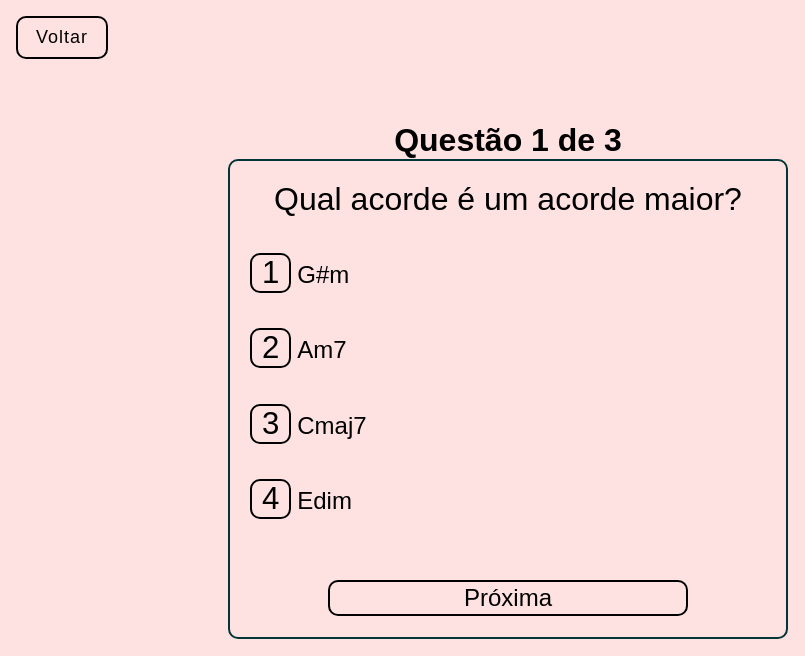
Test: Quiz › plays a quiz
Click the button "2": click(271, 348) [250,328,291,368]
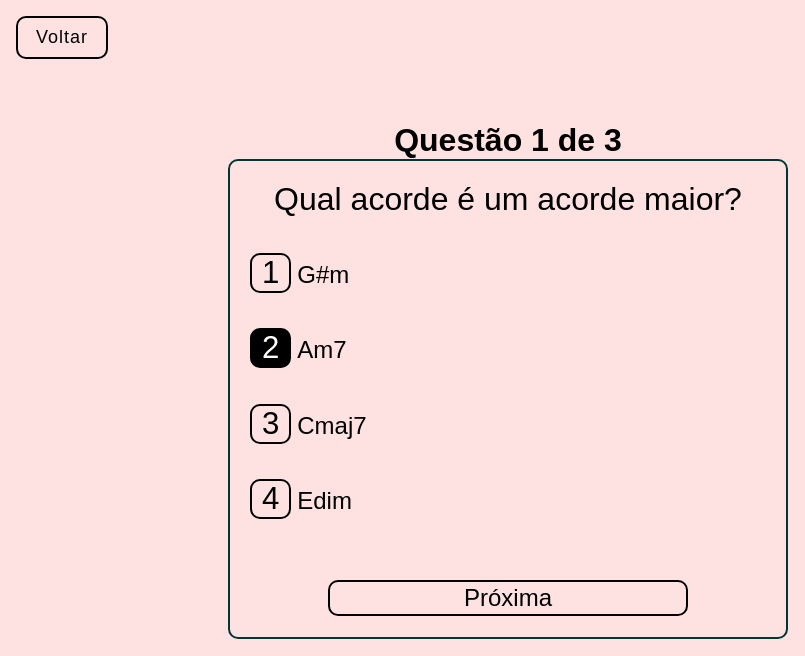
Click the button "Próxima": click(508, 598) [328,580,688,616]
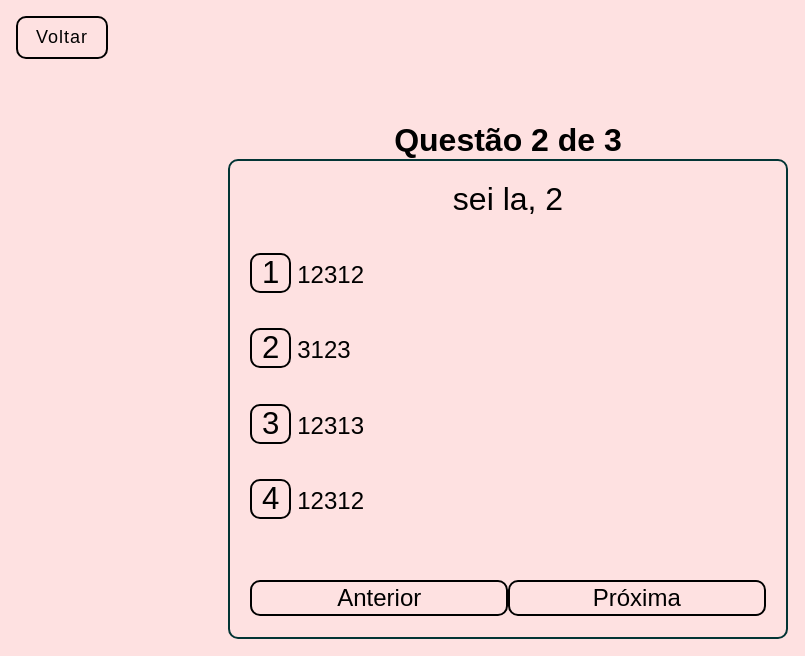
Click the button "3": click(271, 424) [250,404,291,444]
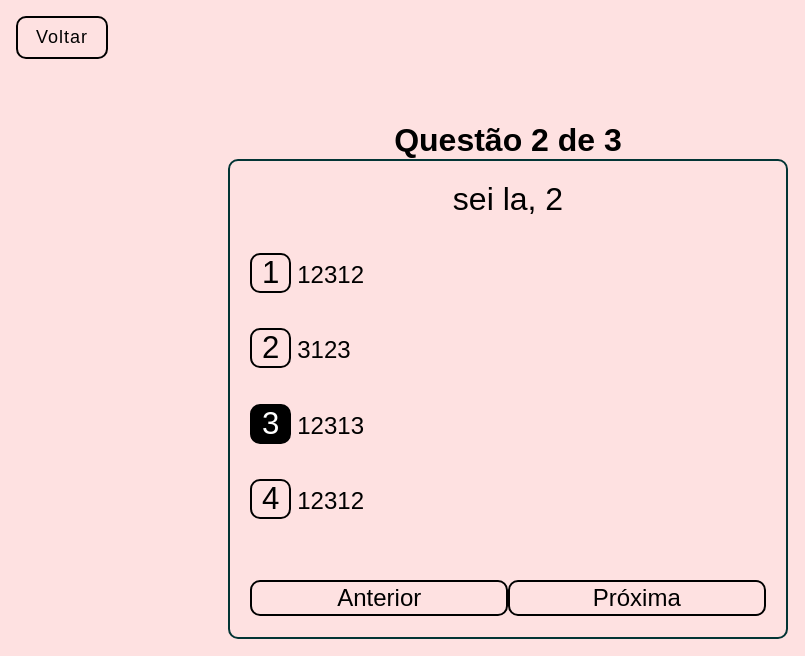
Click the button "Próxima": click(637, 598) [508,580,766,616]
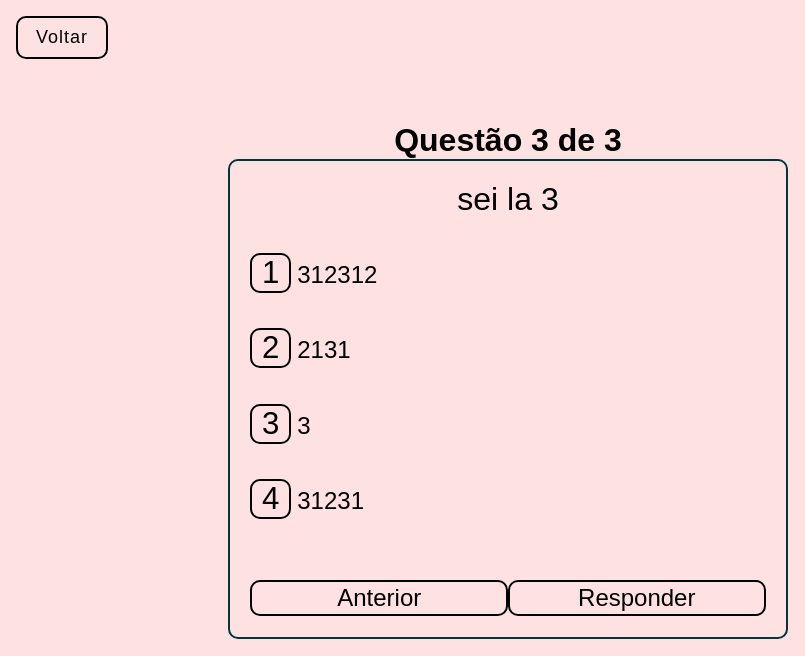
Click the button "4": click(271, 499) [250,479,291,519]
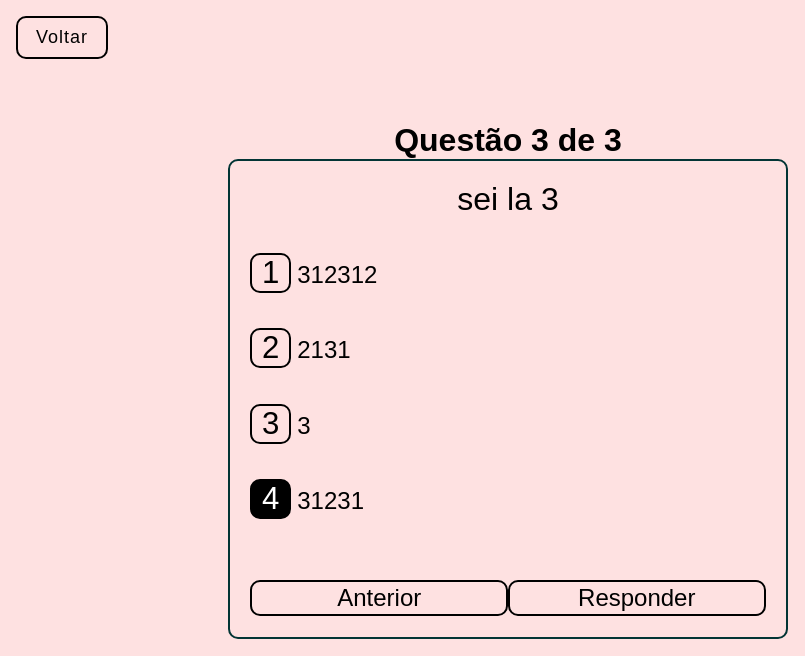
Click the button "Responder": click(637, 598) [508,580,766,616]
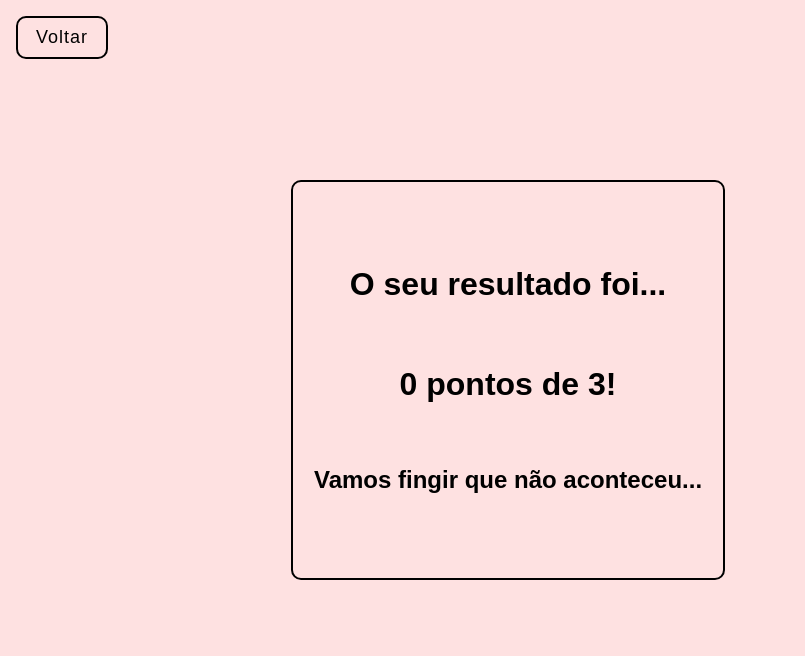
Now the heading "O seu resultado foi..." is shown, box [350,266,666,302]
